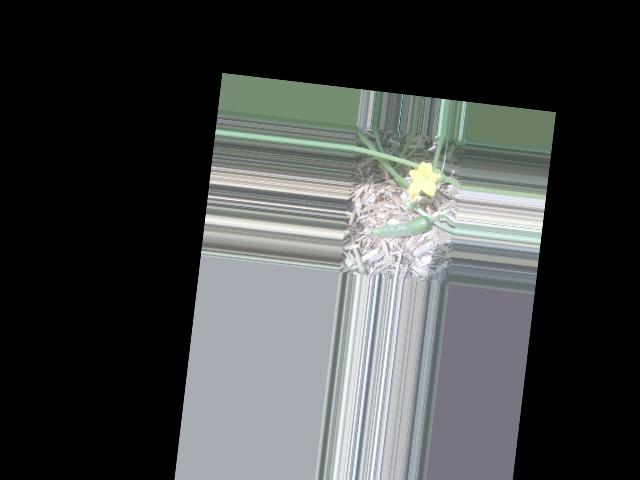cucumber: (365, 208, 432, 243)
